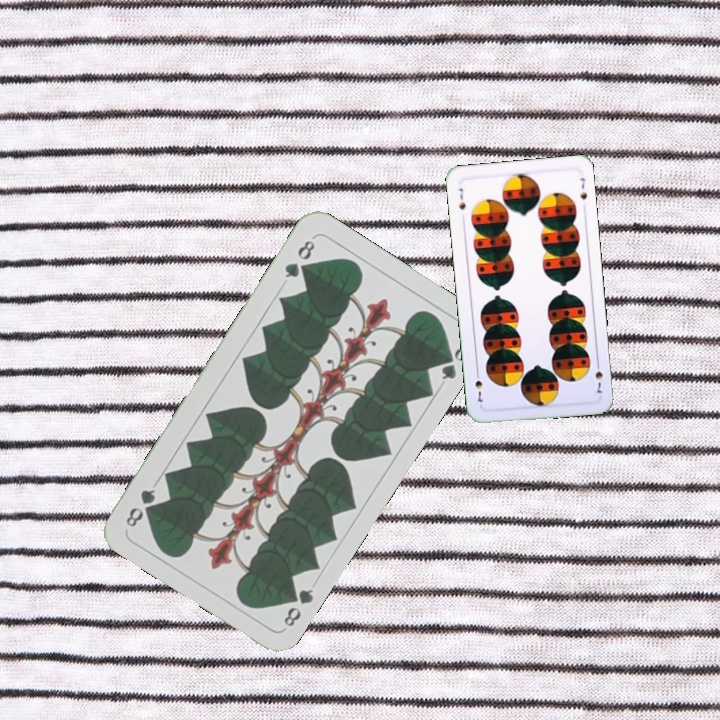G8: (280, 234, 318, 281), (279, 584, 316, 630)
S7: (591, 357, 605, 397), (455, 184, 468, 212)
